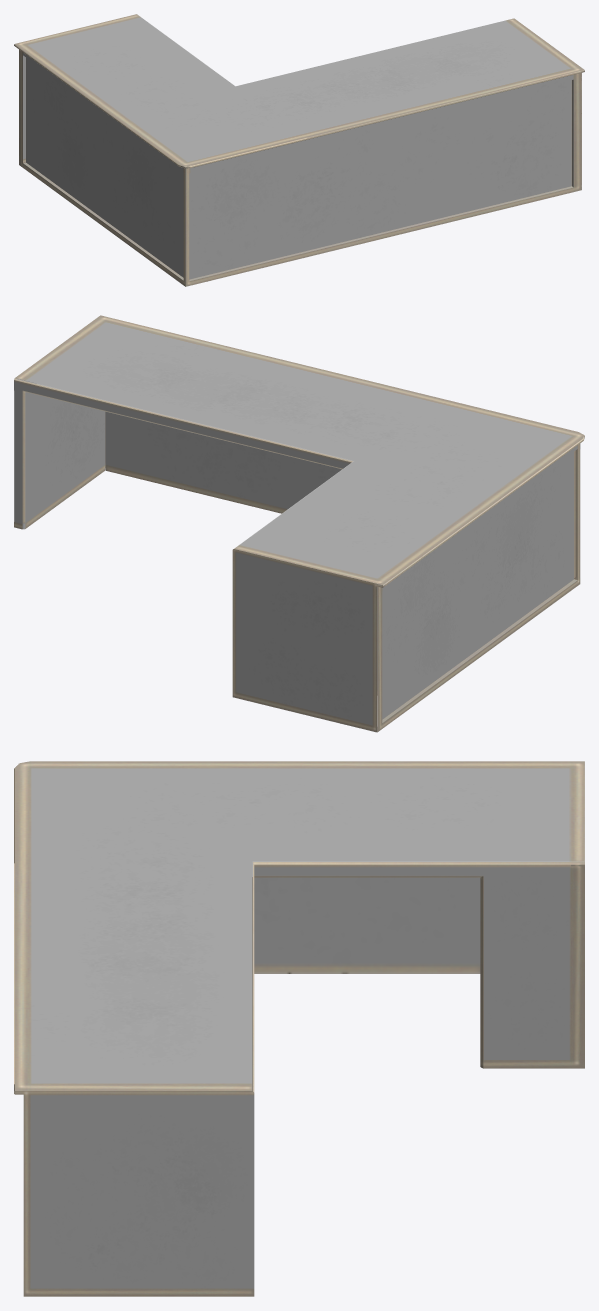
File: LDesk.fbx
3 renders of one model, top to bottom at view 1: azimuth 30°, elevation 25°; view 2: azimuth 150°, elevation 25°; view 3: azimuth 270°, elevation 25°, orthographic. The views are drawn at different scales.
Parts seen in each view (by area): view 1: pCube1; view 2: pCube1; view 3: pCube1.
Boxes of the visible parts, x1,y1,x2,y2 form: pCube1: (14, 14, 584, 286); pCube1: (14, 315, 584, 732); pCube1: (14, 761, 584, 1296).
Bounding box in the file's own units: 3.49 × 1.01 × 2.55.
